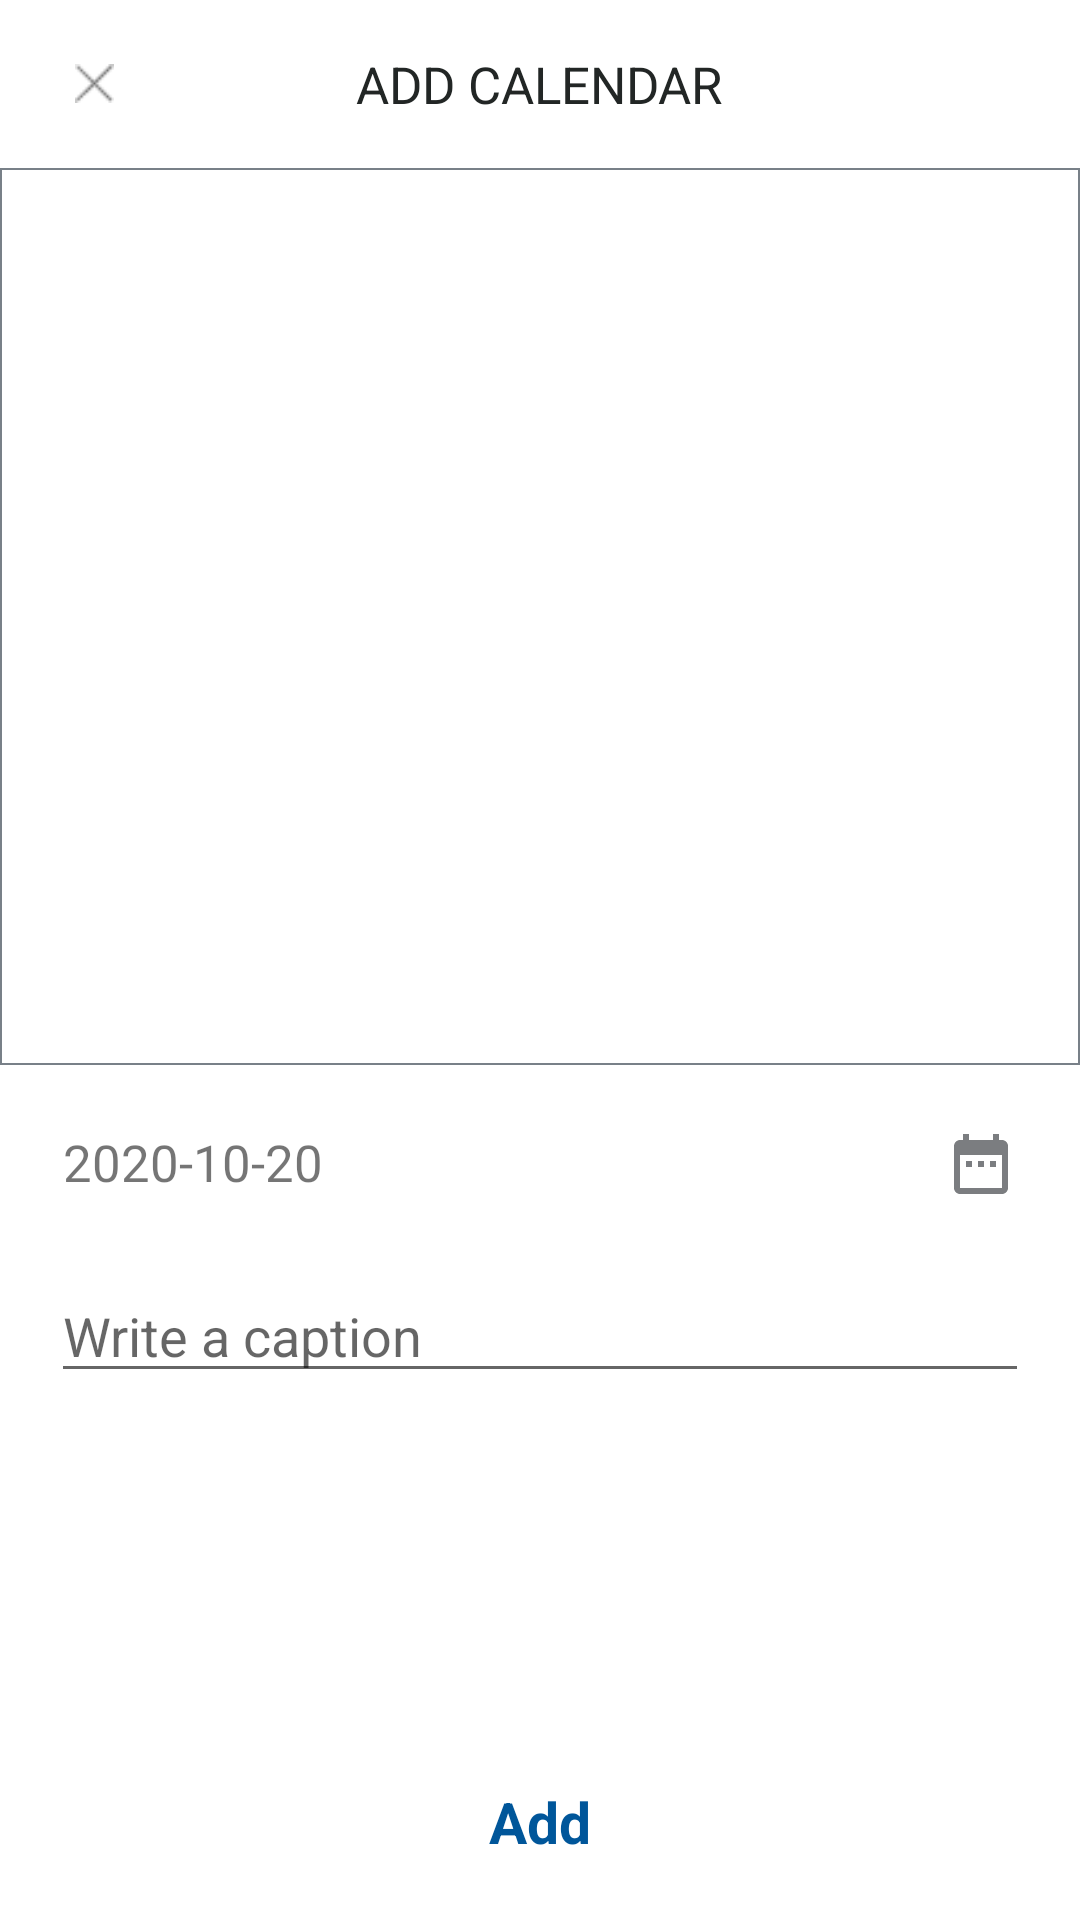

Icon bounding boxes for this 1080*1920 phone screenshot, format (x1, y1, x2, y2):
close: (75, 64, 114, 103)
date: (954, 1134, 1008, 1194)
